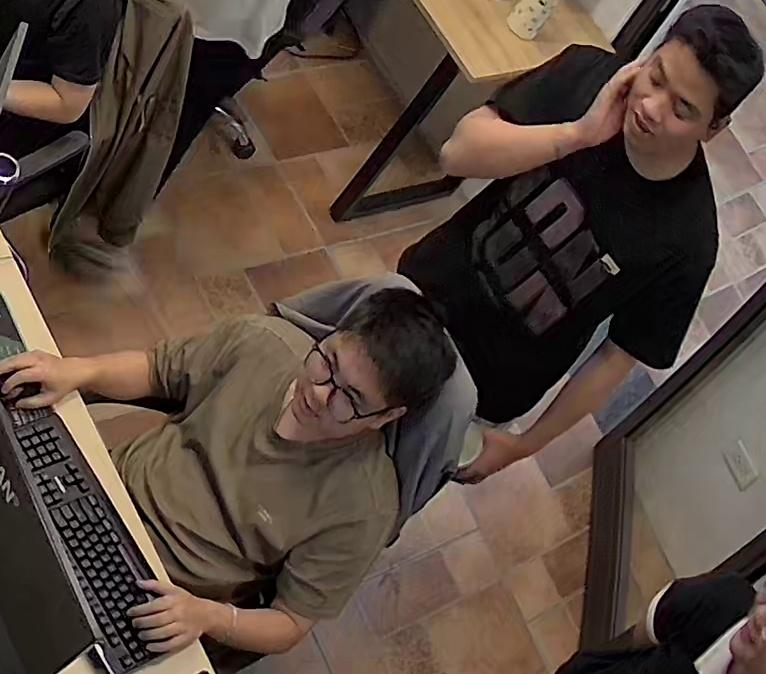no_helmet: (631, 4, 765, 142), (337, 288, 455, 418)
none: (394, 45, 723, 415), (109, 316, 403, 617)
